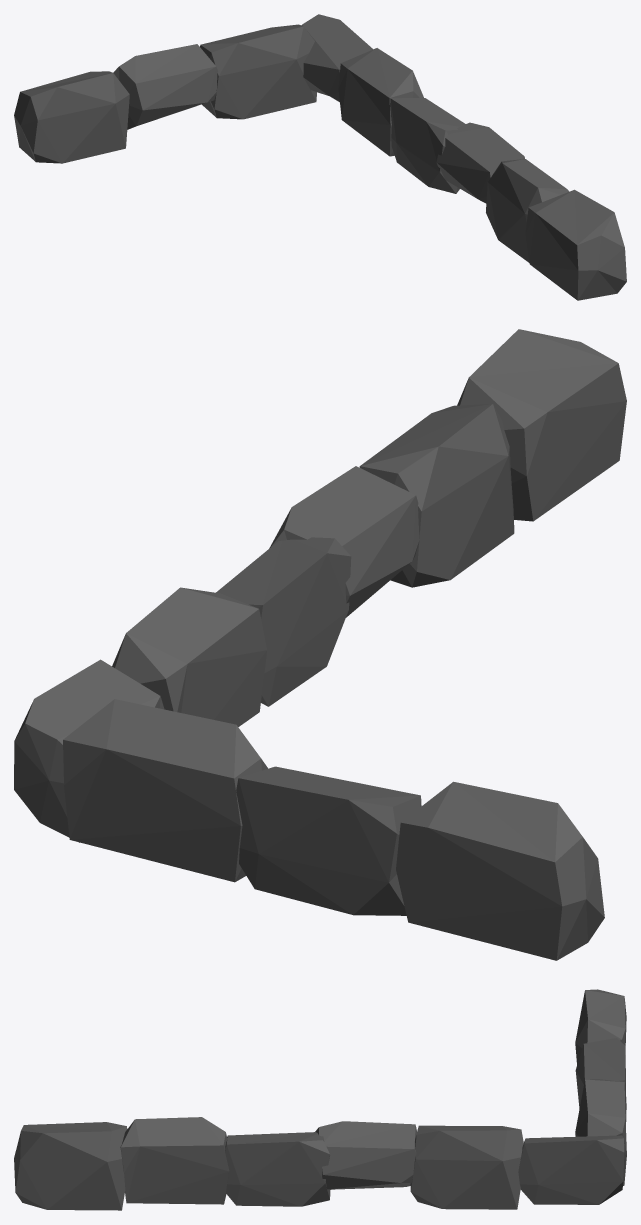
File: foundation_004.glb
The picture shows the model from 3 angles, top to bottom: view 1: azimuth 30°, elevation 25°; view 2: azimuth 150°, elevation 25°; view 3: azimuth 270°, elevation 25°; orthographic projection. The views are drawn at different scales.
Parts seen in each view (by area): view 1: foundation_004; view 2: foundation_004; view 3: foundation_004.
Part boxes in pixels (x1,y1,x2,y2): foundation_004: (14,14,626,300); foundation_004: (14,329,626,960); foundation_004: (14,989,626,1210).
Size of the model in its own units: 6.94 by 1.57 by 11.33.
1 material, 1 textured.
